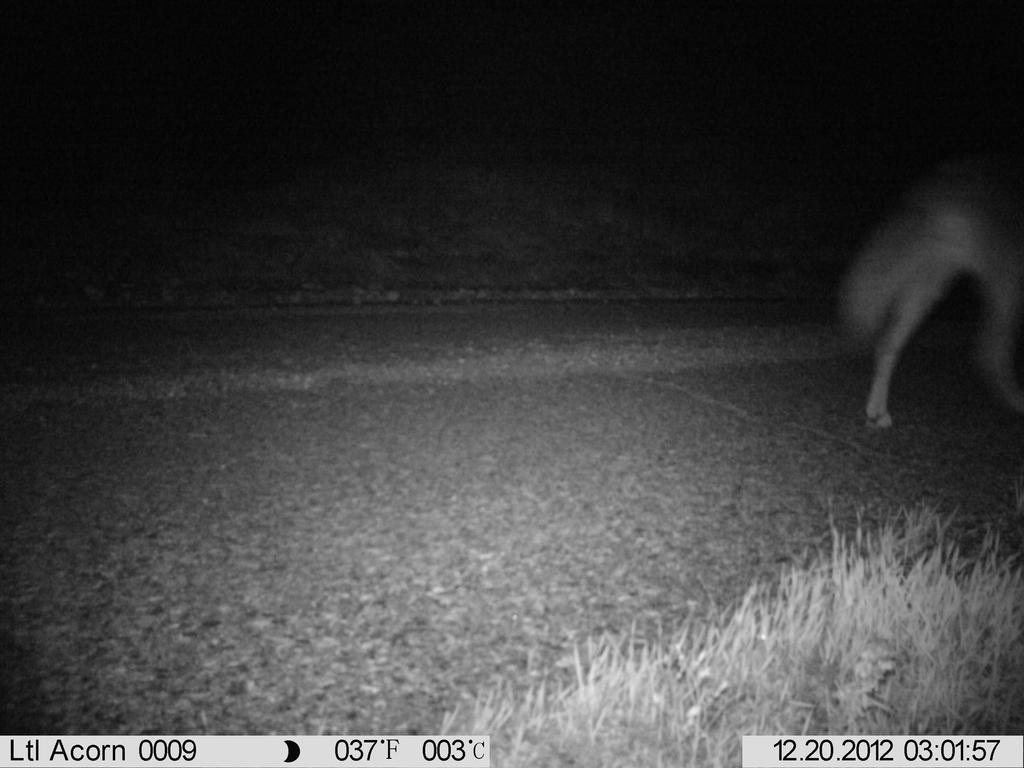coyote: (835, 175, 1023, 439)
